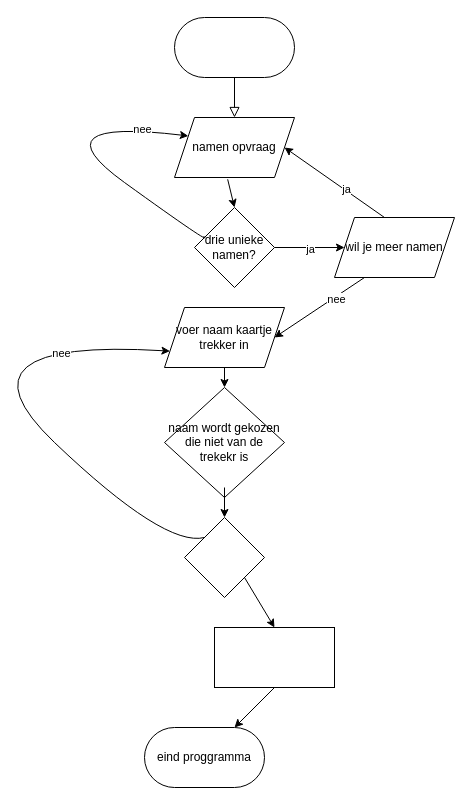
Some shapes in this 472 by 805 pixel diagram are drawn without their labels. Here are the shapes that lost their labels. From the top down, the box of each, then its label:
(174, 16, 294, 78): start programma
(184, 516, 264, 598): alle namen getroken
(214, 626, 334, 688): print alle namen van alle getrokken en door wie
